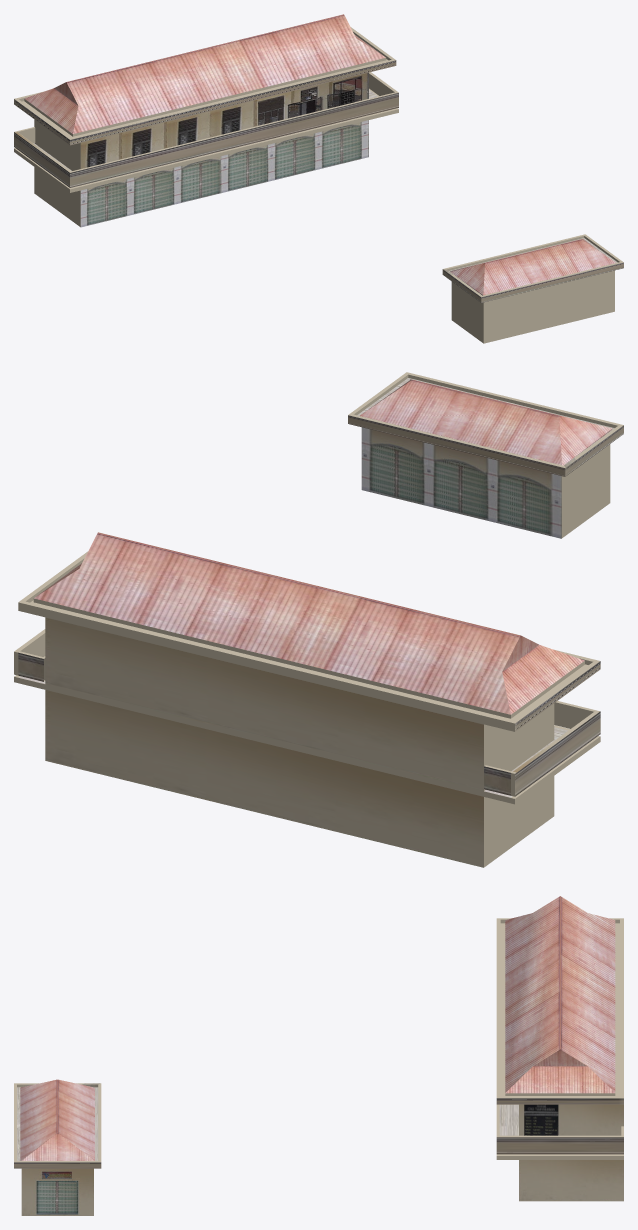
3 renders of one model, top to bottom at view 1: azimuth 30°, elevation 25°; view 2: azimuth 150°, elevation 25°; view 3: azimuth 270°, elevation 25°, orthographic. The views are drawn at different scales.
Visible parts, largest first — view 1: 5cbd8bc7d12f8796ec0c0159.001; view 2: 5cbd8bc7d12f8796ec0c0159.001; view 3: 5cbd8bc7d12f8796ec0c0159.001.
Boxes of the visible parts, x1,y1,x2,y2 form: 5cbd8bc7d12f8796ec0c0159.001: (14, 14, 623, 343); 5cbd8bc7d12f8796ec0c0159.001: (14, 372, 623, 867); 5cbd8bc7d12f8796ec0c0159.001: (14, 896, 623, 1215).
Size of the model in its own units: 28.37 by 10.44 by 38.89.
Materials: 1 (1 with a texture image).
